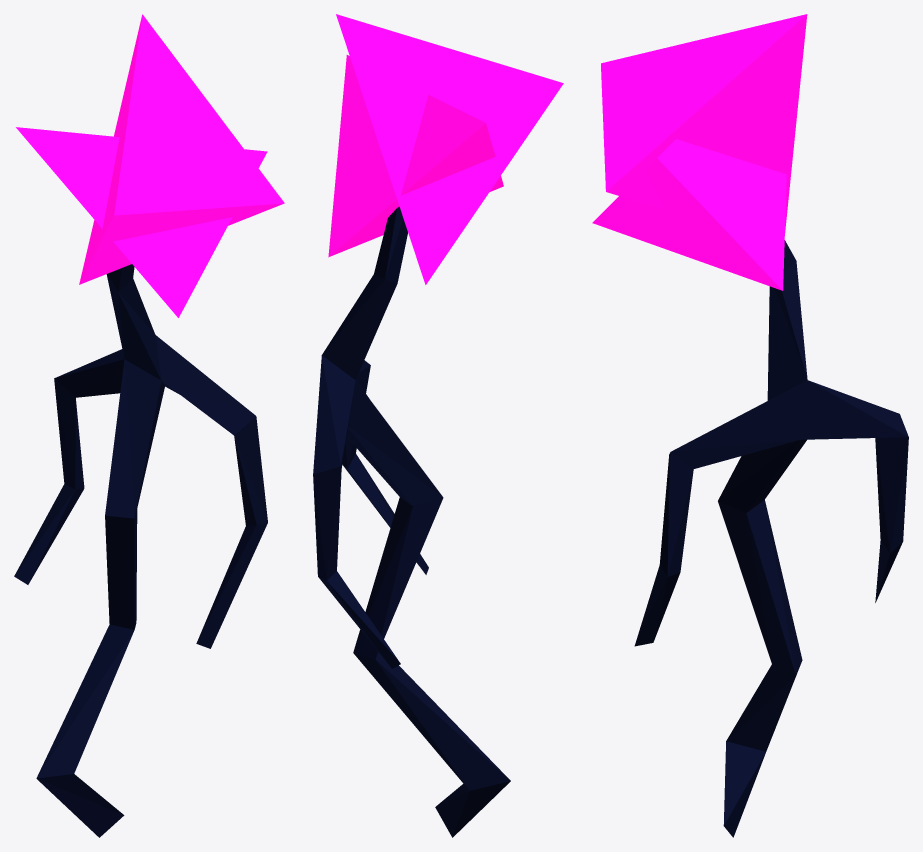
Rendered from trihead guy.fbx.
3 renders of one model, left to right at view 1: azimuth 30°, elevation 25°; view 2: azimuth 150°, elevation 25°; view 3: azimuth 270°, elevation 25°, orthographic. The views are drawn at different scales.
Visible parts, largest first — view 1: body, head1, head2; view 2: body, head1, head2; view 3: body, head1, head2.
Boxes of the visible parts, <box> form: body: <box>14,264,267,837</box>; head1: <box>79,14,284,284</box>; head2: <box>16,127,267,317</box>; body: <box>313,206,510,837</box>; head1: <box>336,14,563,284</box>; head2: <box>328,55,503,257</box>; body: <box>634,240,908,837</box>; head1: <box>601,14,807,232</box>; head2: <box>592,139,786,290</box>.
Size of the model in its own units: 168 by 631 by 209.
